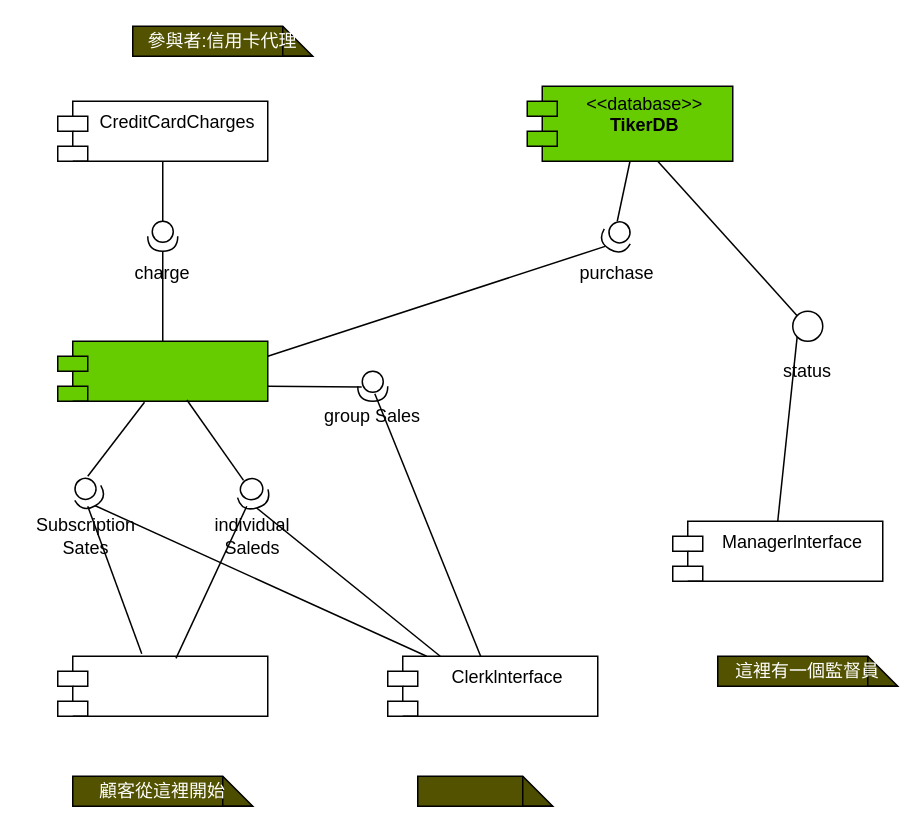
This 924x833 diagram has some shape labels left out. Here are the shapes that lost their labels. From the top down, the centre of each, then its label:
At pixel 162 370: "TicktSeller".
At pixel 162 685: "Kiosklnterface".
At pixel 484 790: "這是售票員".
